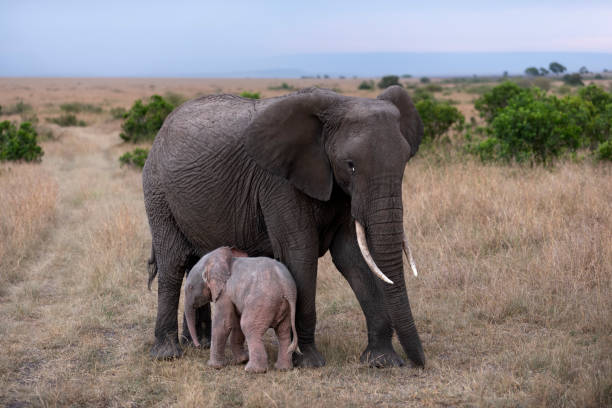elephant: (101, 67, 511, 373), (154, 242, 314, 392)
